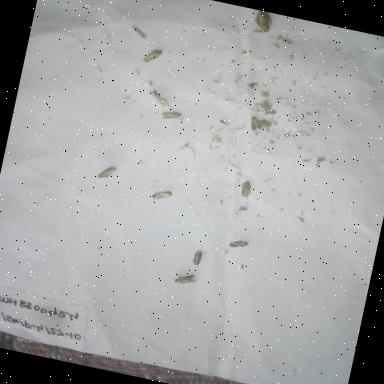pbw: (228, 173, 259, 203), (167, 267, 205, 291), (92, 158, 124, 185), (136, 44, 168, 68), (182, 244, 210, 271), (252, 9, 280, 34), (147, 184, 177, 206), (144, 88, 176, 108), (224, 234, 254, 254), (125, 20, 151, 40), (156, 106, 184, 124), (246, 113, 264, 134)
